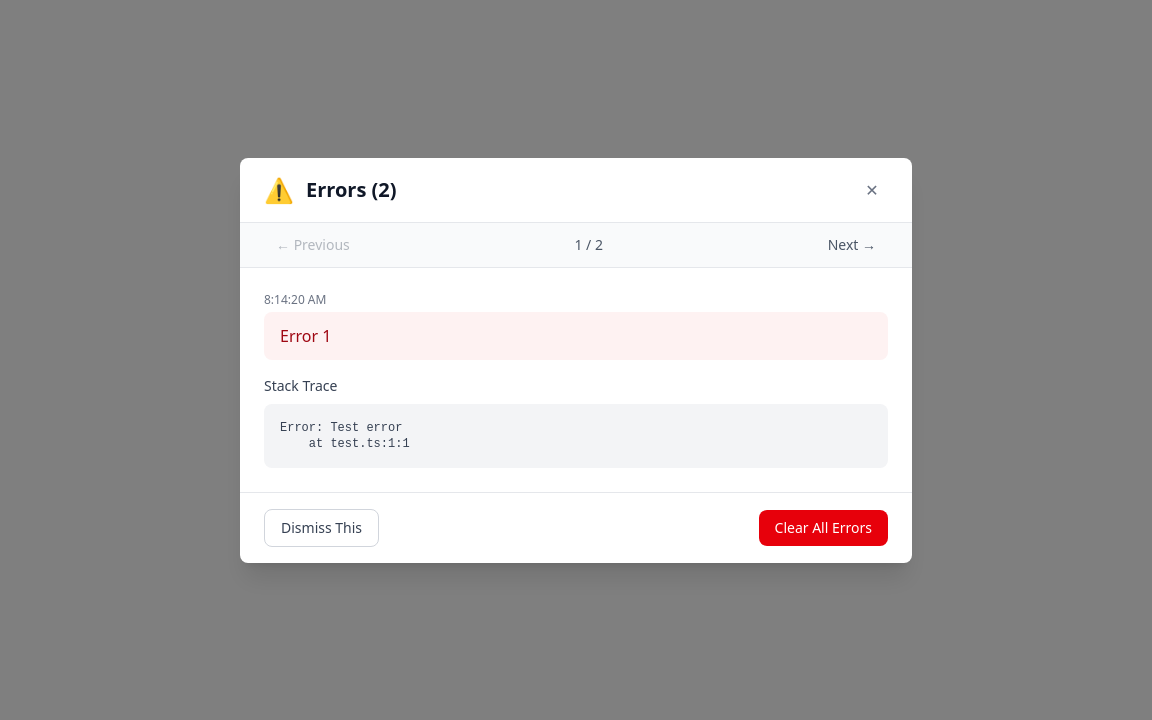
ErrorView › navigation › should navigate to previous error
The image size is (1152, 720).
# Go to second error
Click the button "Next →" at (852, 244), box 816,230 -> 888,258
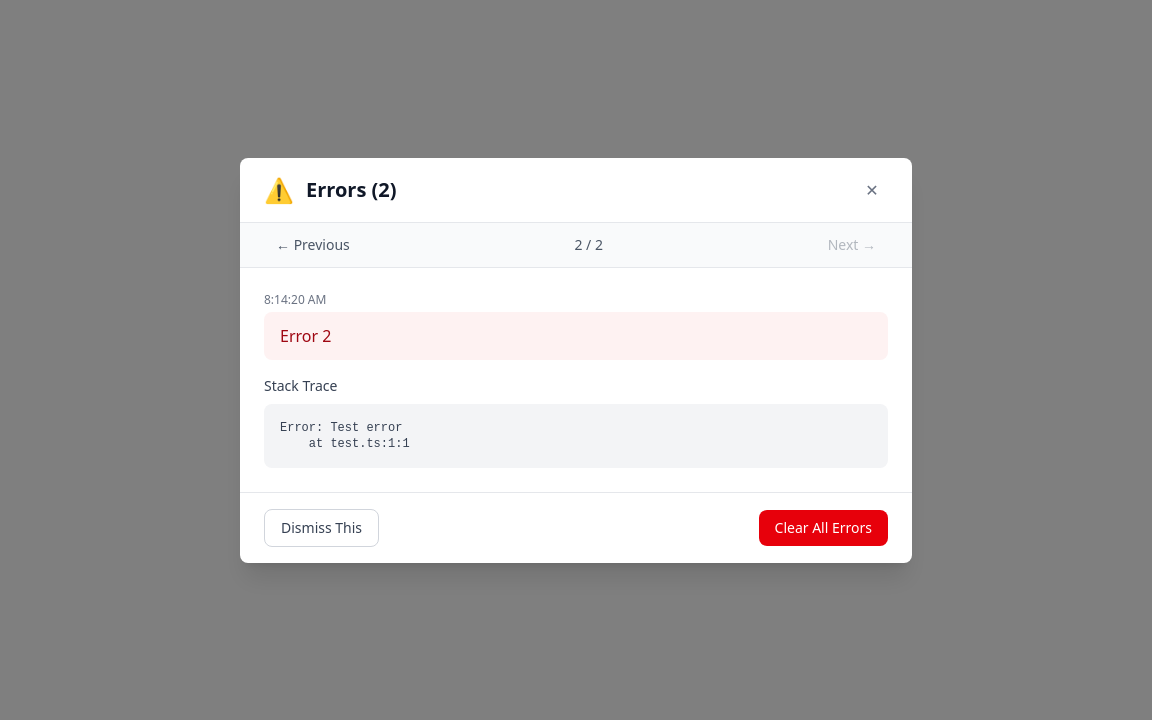
Now the text "Error 2" is shown, box 280,324 -> 331,346
# Go back to first
Click the button "← Previous" at (313, 244), box 264,230 -> 362,258
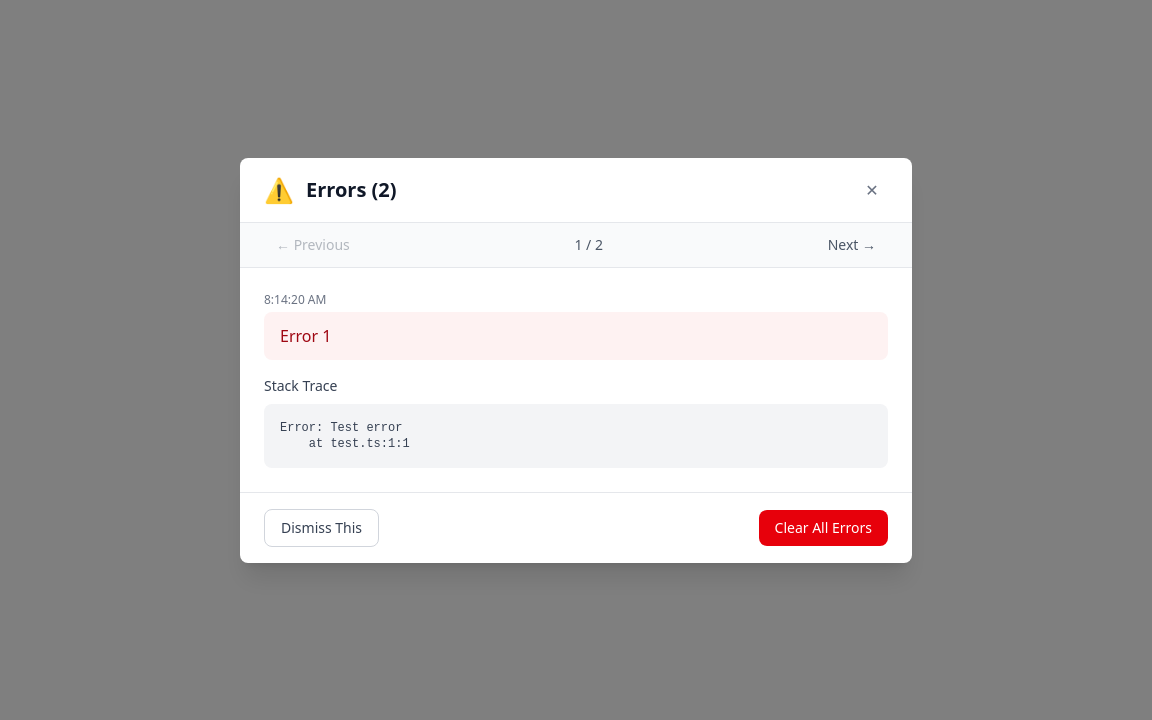
Now the text "Error 1" is shown, box 280,324 -> 331,346
Now the text "1 / 2" is shown, box 574,234 -> 603,254
